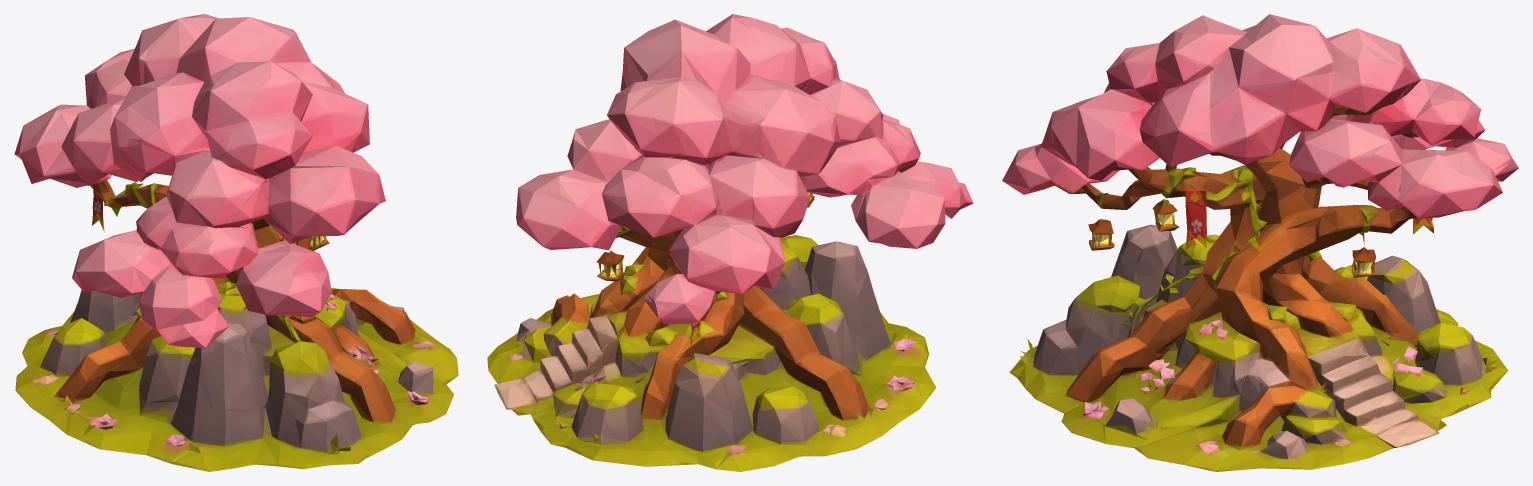
Rendered from KeepSakeHugeTree.glb.
3 renders of one model, left to right at view 1: azimuth 30°, elevation 25°; view 2: azimuth 150°, elevation 25°; view 3: azimuth 270°, elevation 25°, orthographic. The views are drawn at different scales.
Parts seen in each view (by area): view 1: tripo_node_3d926c4a-dad2-4205-a0b7-81727f70b901; view 2: tripo_node_3d926c4a-dad2-4205-a0b7-81727f70b901; view 3: tripo_node_3d926c4a-dad2-4205-a0b7-81727f70b901.
Part boxes in pixels (box(x1,y1,x2,y2)): tripo_node_3d926c4a-dad2-4205-a0b7-81727f70b901: box(14, 14, 458, 471); tripo_node_3d926c4a-dad2-4205-a0b7-81727f70b901: box(487, 14, 973, 471); tripo_node_3d926c4a-dad2-4205-a0b7-81727f70b901: box(1002, 14, 1518, 471).
Bounding box in the file's own units: 0.8643 × 0.7576 × 0.9793.
Materials: 1 (1 with a texture image).
